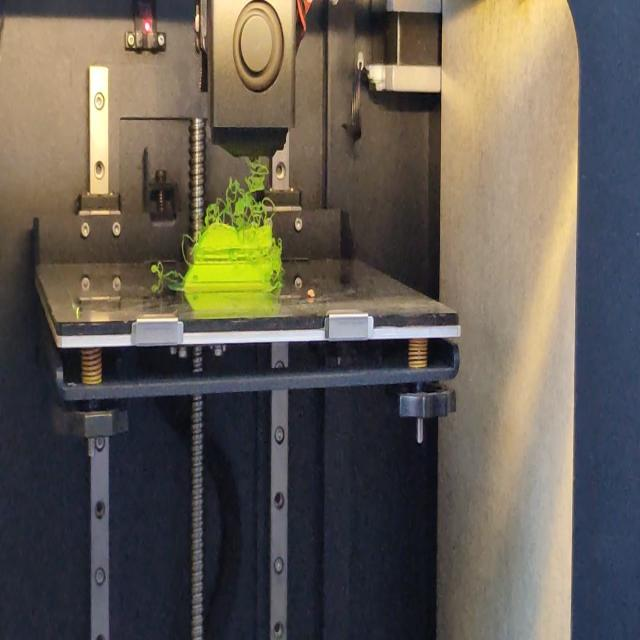spaghetti: (206, 159, 275, 230), (148, 260, 180, 279), (181, 228, 195, 260), (272, 279, 286, 294)
